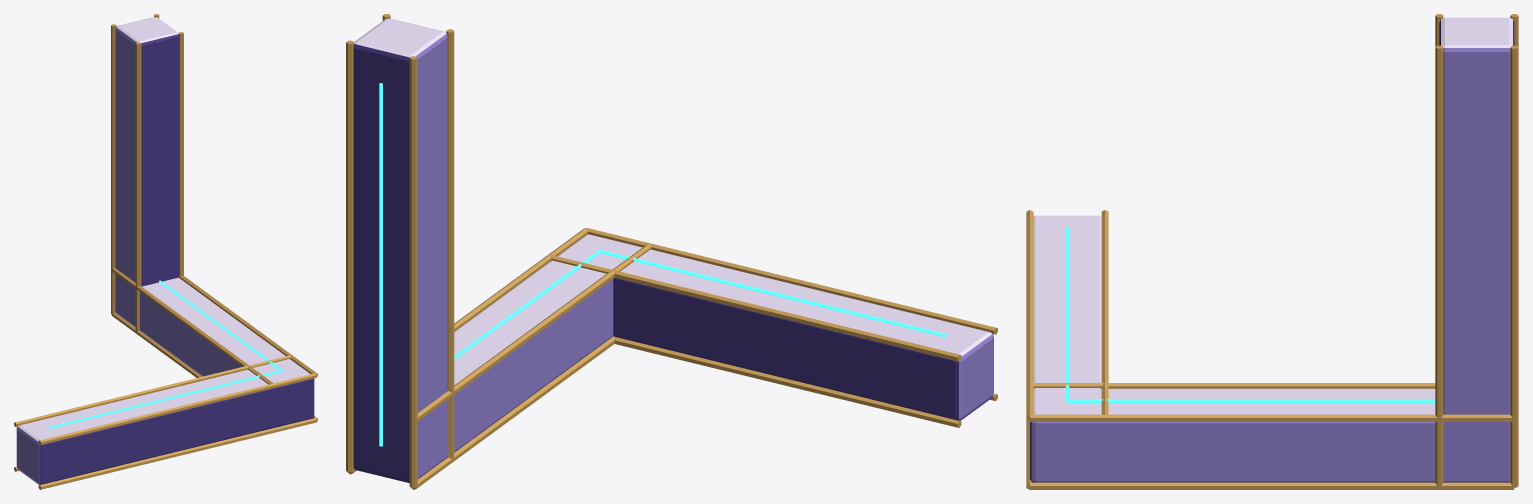
File: penrose.glb
The picture shows the model from 3 angles, left to right: view 1: azimuth 30°, elevation 25°; view 2: azimuth 150°, elevation 25°; view 3: azimuth 270°, elevation 25°; orthographic projection. The views are drawn at different scales.
Visible parts, largest first — view 1: penrose, penrose_brass, penrose_neon; view 2: penrose, penrose_brass, penrose_neon; view 3: penrose, penrose_brass, penrose_neon.
Boxes of the visible parts, bbox=[...] form: penrose: bbox=[16, 17, 314, 484]; penrose_brass: bbox=[14, 14, 317, 489]; penrose_neon: bbox=[48, 280, 282, 428]; penrose: bbox=[353, 18, 993, 482]; penrose_brass: bbox=[346, 14, 997, 489]; penrose_neon: bbox=[379, 83, 946, 446]; penrose: bbox=[1030, 17, 1514, 482]; penrose_brass: bbox=[1026, 14, 1518, 489]; penrose_neon: bbox=[1065, 226, 1435, 402].
Bounding box in the file's own units: 3.58 × 3.58 × 3.61.
